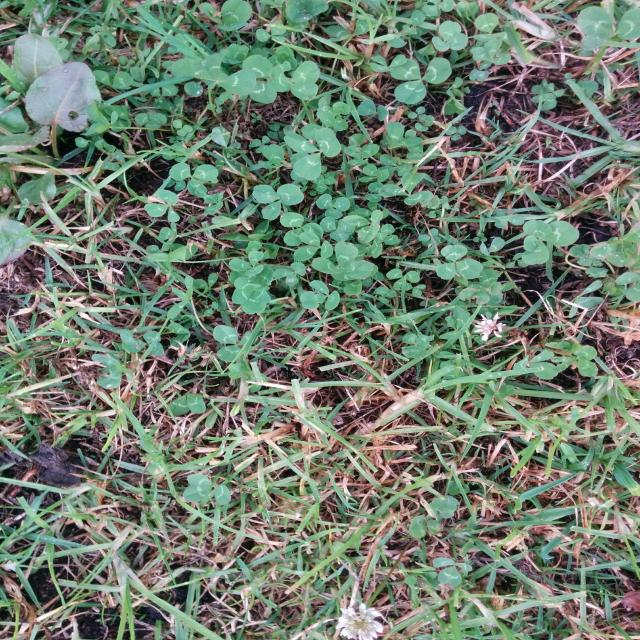Four Leaf Clover: (521, 220, 579, 265)
